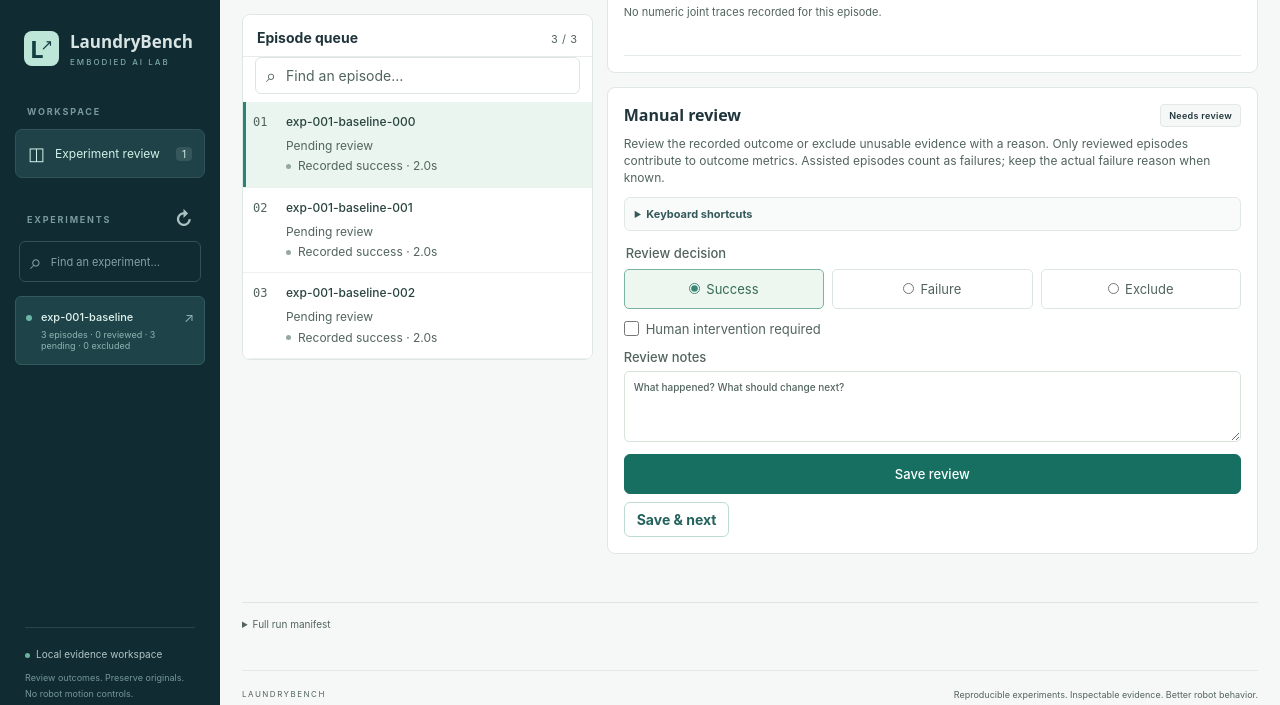
Scenario: does not let a delayed save response move the user after they navigate
(page scrolled)
Expected: the heading "Manual review" is shown, [624,104,741,126]
Click the button with aria-label "Save & next: save review and go to next pending episode". click: point(677, 519)
box: [624,502,730,537]
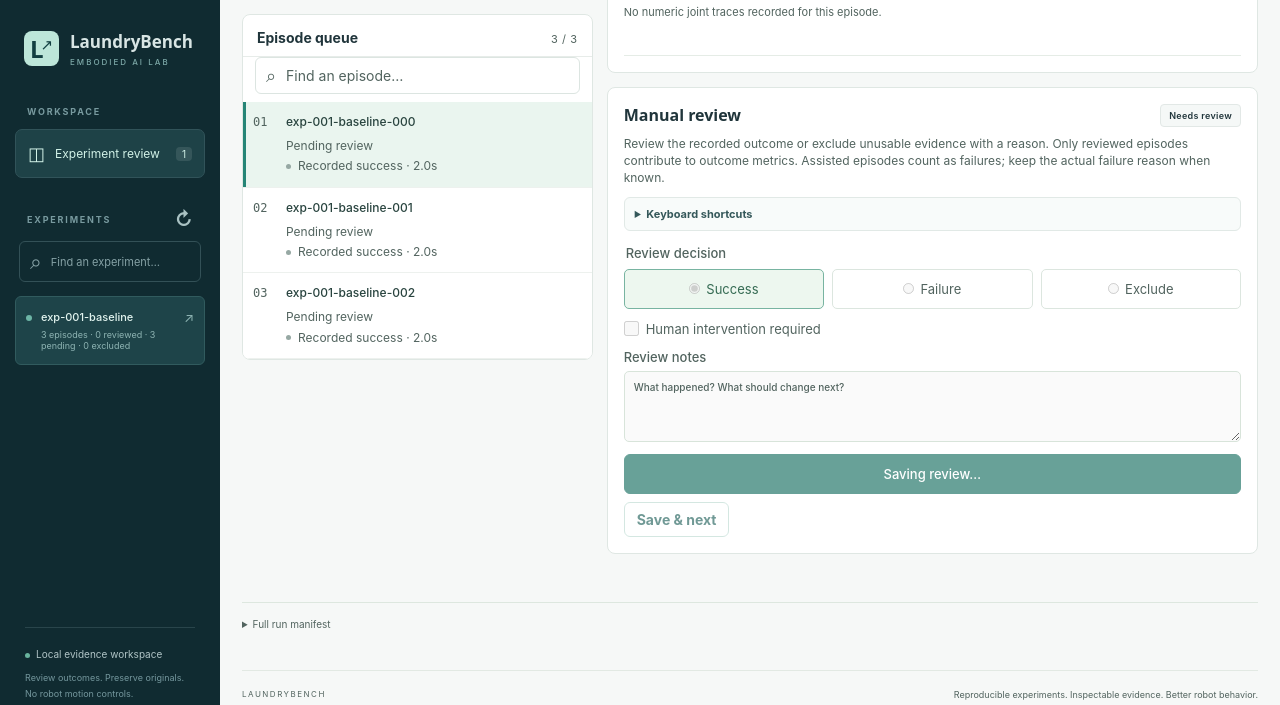
Click the button "exp-001-baseline-001". click: point(349, 207)
box: [243,188,592,273]
(page scrolled)
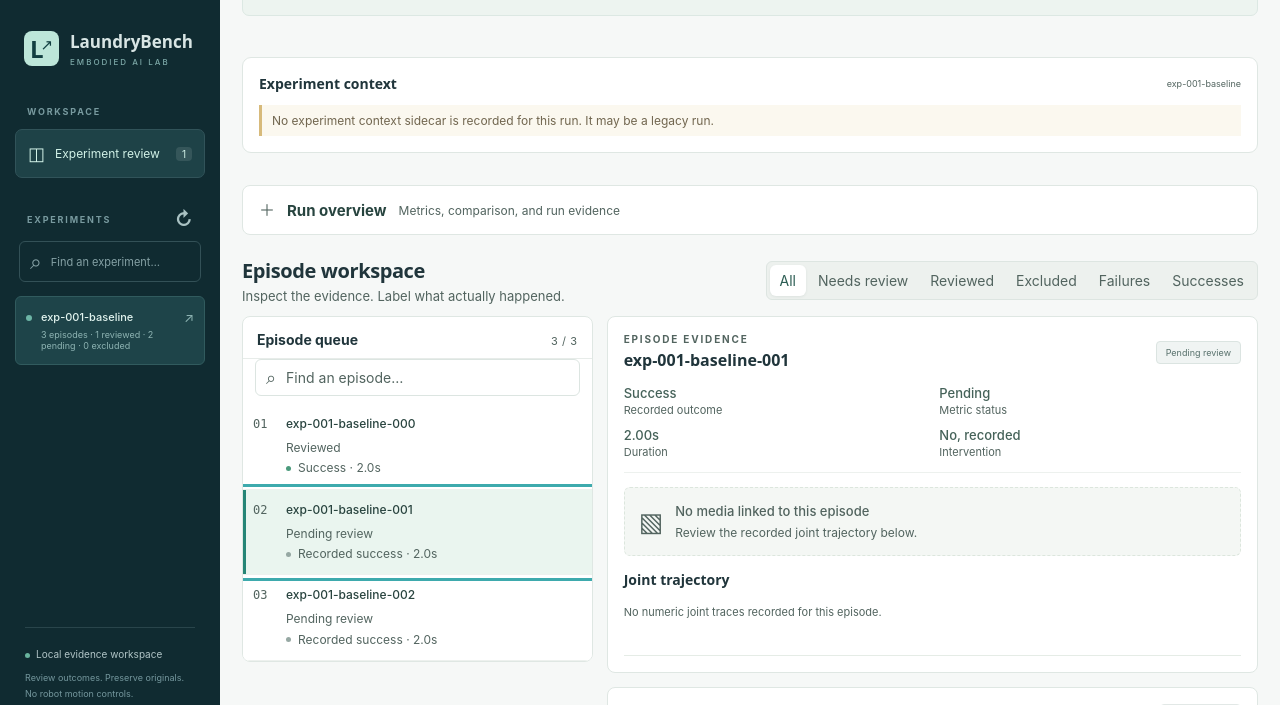
Expected: the heading "exp-001-baseline-001" is shown, [624,350,790,372]
